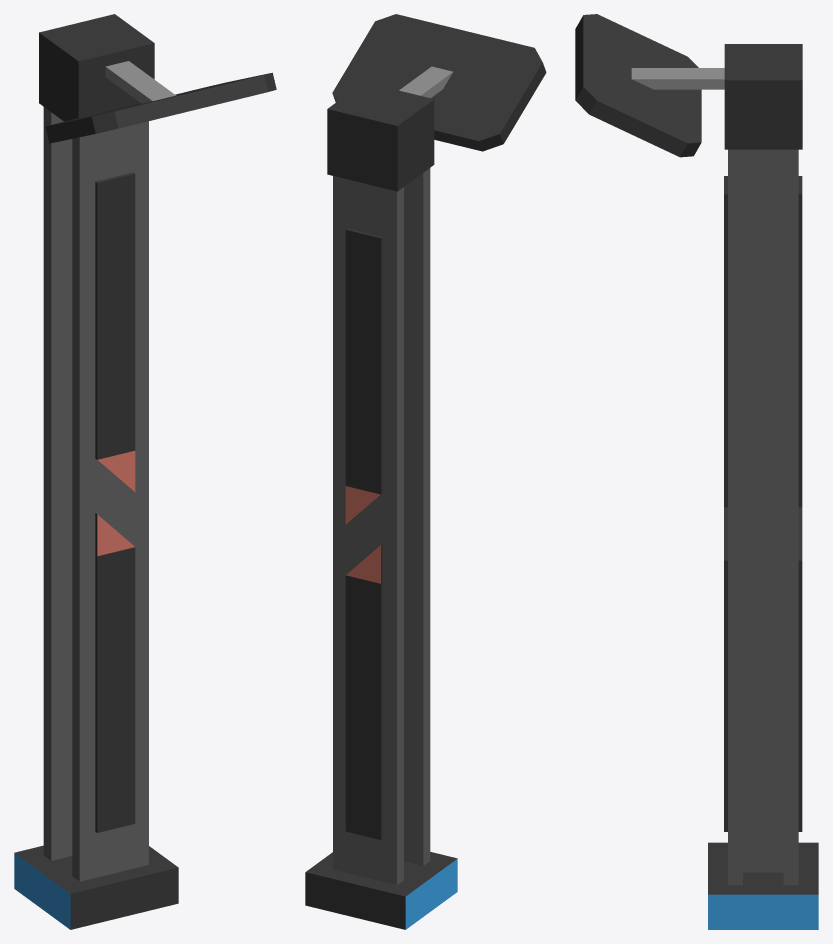
File: Cavern_Light_Post.fbx
3 views of the same model, side by side, from view 1: azimuth 30°, elevation 25°; view 2: azimuth 150°, elevation 25°; view 3: azimuth 270°, elevation 25° (orthographic). The views are drawn at different scales.
Visible parts, largest first — view 1: Cavern_Light_Post; view 2: Cavern_Light_Post; view 3: Cavern_Light_Post.
Part boxes in pixels (bbox=[...]): Cavern_Light_Post: bbox=[14, 14, 276, 929]; Cavern_Light_Post: bbox=[305, 14, 546, 929]; Cavern_Light_Post: bbox=[575, 14, 818, 929].
Bounding box in the file's own units: 88.87 × 408 × 105.
